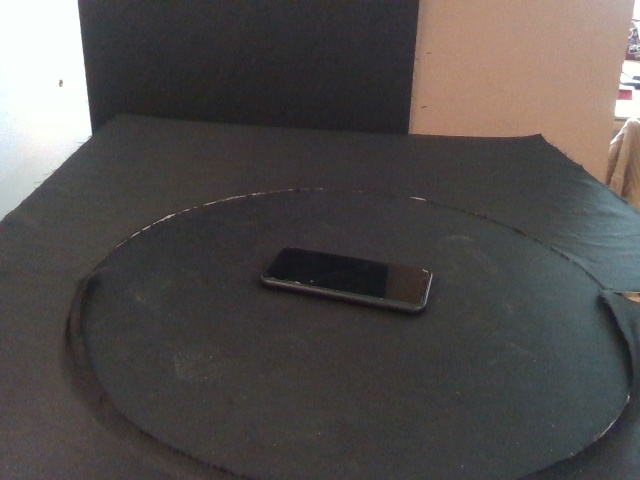phone: (259, 246, 434, 313)
